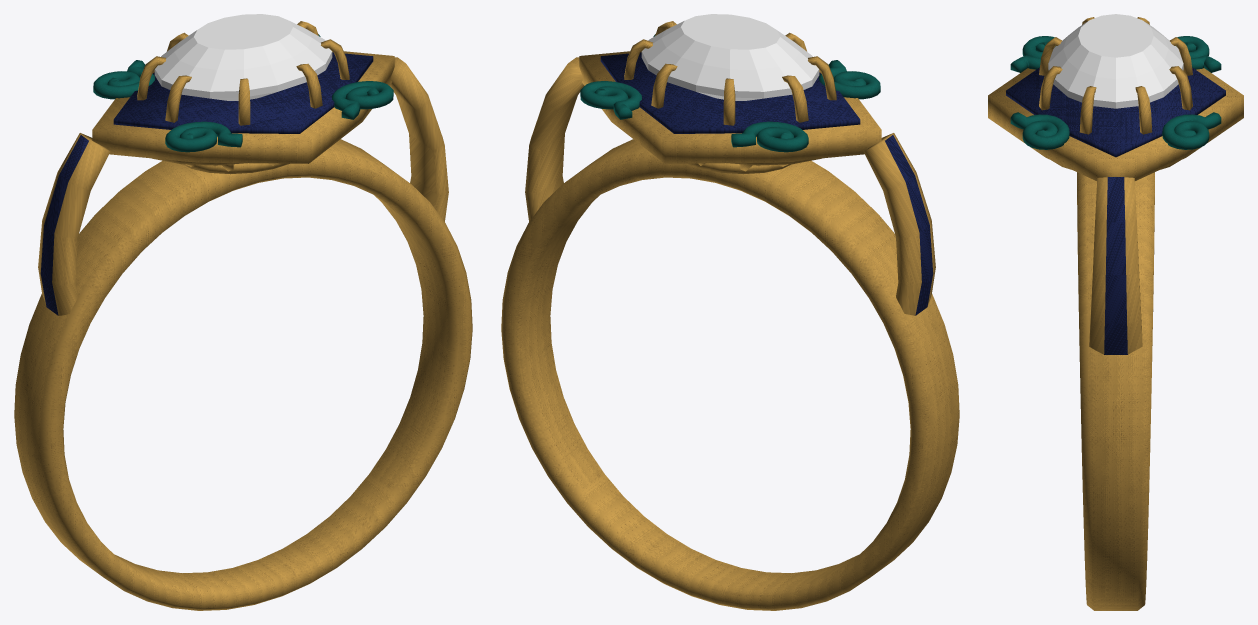
The model's file is Alexandrite.fbx.
3 renders of one model, left to right at view 1: azimuth 30°, elevation 25°; view 2: azimuth 150°, elevation 25°; view 3: azimuth 270°, elevation 25°, orthographic. The views are drawn at different scales.
Parts seen in each view (by area): view 1: ALX_Band, ALX_Head, ALX_Gem; view 2: ALX_Band, ALX_Head, ALX_Gem; view 3: ALX_Head, ALX_Band, ALX_Gem.
Boxes of the visible parts, box(x1,y1,x2,y2) form: ALX_Band: box(14, 139, 472, 610); ALX_Head: box(38, 21, 448, 315); ALX_Gem: box(154, 14, 332, 100); ALX_Band: box(501, 139, 959, 610); ALX_Head: box(525, 21, 935, 315); ALX_Gem: box(641, 14, 819, 100); ALX_Head: box(988, 17, 1243, 354); ALX_Band: box(1077, 172, 1154, 610); ALX_Gem: box(1048, 14, 1183, 108).
Size of the model in its own units: 0.1374 by 0.1715 by 0.072.
3 materials, 2 textured.
